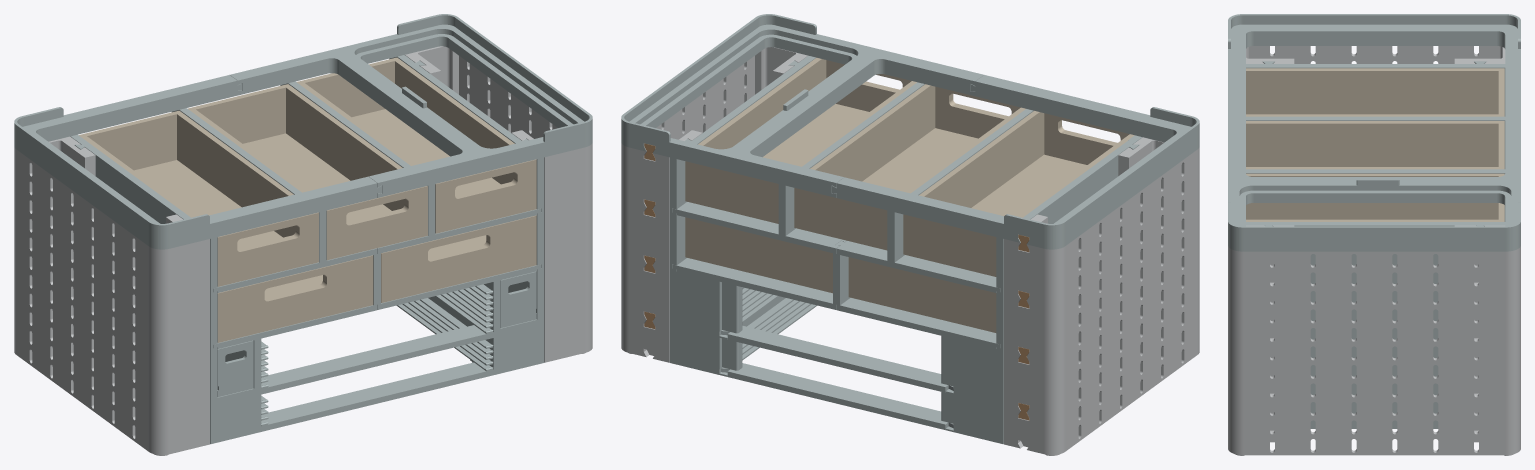
File: overstack-pegboard.glb
3 views of the same model, side by side, from view 1: azimuth 30°, elevation 25°; view 2: azimuth 150°, elevation 25°; view 3: azimuth 270°, elevation 25° (orthographic).
Parts seen in each view (by area): view 1: device_adapter_2, 3drawers_drawer_2, 3drawers_drawer_1, device_adapter_1, 3drawers_drawer_3, 3drawers_end_left_1, standard_1_end_left_1, 2drawers_end_left_1, 2drawers_drawer_1, 2drawers_drawer_2, low_0_end_left_1, 3drawers_end_right_1 (+19 smaller); view 2: device_adapter_2, device_adapter_1, 3drawers_drawer_2, 3drawers_drawer_1, 3drawers_end_left_1, 3drawers_drawer_3, 2drawers_end_left_1, standard_1_end_left_1, low_0_end_left_1, 3drawers_end_right_1, 2drawers_drawer_1, 2drawers_drawer_2 (+19 smaller); view 3: device_adapter_2, standard_1_end_right_1, 3drawers_end_right_1, 2drawers_end_right_1, 3drawers_drawer_1, 3drawers_drawer_2, device_adapter_1, low_0_end_right_1, 3drawers_drawer_3, 3drawers_end_left_1, 3drawers_side_right, 3drawers_side_left (+5 smaller).
Boxes of the visible parts, x1,y1,x2,y2 form: device_adapter_2: [230, 14, 592, 197]; 3drawers_drawer_2: [188, 84, 427, 260]; 3drawers_drawer_1: [79, 110, 318, 286]; device_adapter_1: [14, 75, 381, 249]; 3drawers_drawer_3: [296, 57, 536, 233]; 3drawers_end_left_1: [14, 136, 209, 305]; standard_1_end_left_1: [14, 259, 209, 417]; 2drawers_end_left_1: [14, 203, 209, 361]; 2drawers_drawer_1: [217, 255, 373, 342]; 2drawers_drawer_2: [381, 215, 536, 302]; low_0_end_left_1: [14, 315, 209, 455]; 3drawers_end_right_1: [405, 46, 592, 212]; device_adapter_2: [621, 14, 983, 197]; device_adapter_1: [832, 75, 1199, 249]; 3drawers_drawer_2: [794, 84, 1025, 250]; 3drawers_drawer_1: [903, 111, 1134, 276]; 3drawers_end_left_1: [1004, 137, 1199, 305]; 3drawers_drawer_3: [685, 57, 916, 223]; 2drawers_end_left_1: [1004, 203, 1199, 361]; standard_1_end_left_1: [1004, 259, 1199, 417]; low_0_end_left_1: [1004, 315, 1199, 455]; 3drawers_end_right_1: [621, 47, 807, 212]; 2drawers_drawer_1: [848, 257, 996, 332]; 2drawers_drawer_2: [685, 217, 832, 293]; device_adapter_2: [1228, 130, 1520, 251]; standard_1_end_right_1: [1228, 349, 1520, 418]; 3drawers_end_right_1: [1228, 225, 1520, 306]; 2drawers_end_right_1: [1228, 294, 1520, 362]; 3drawers_drawer_1: [1246, 68, 1504, 116]; 3drawers_drawer_2: [1246, 121, 1504, 169]; device_adapter_1: [1228, 14, 1520, 129]; low_0_end_right_1: [1228, 405, 1520, 455]; 3drawers_drawer_3: [1246, 173, 1504, 221]; 3drawers_end_left_1: [1246, 46, 1505, 63]; 3drawers_side_right: [1246, 222, 1505, 280]; 3drawers_side_left: [1246, 61, 1505, 116].
Size of the model in its own units: 0.495 by 0.249 by 0.287.
